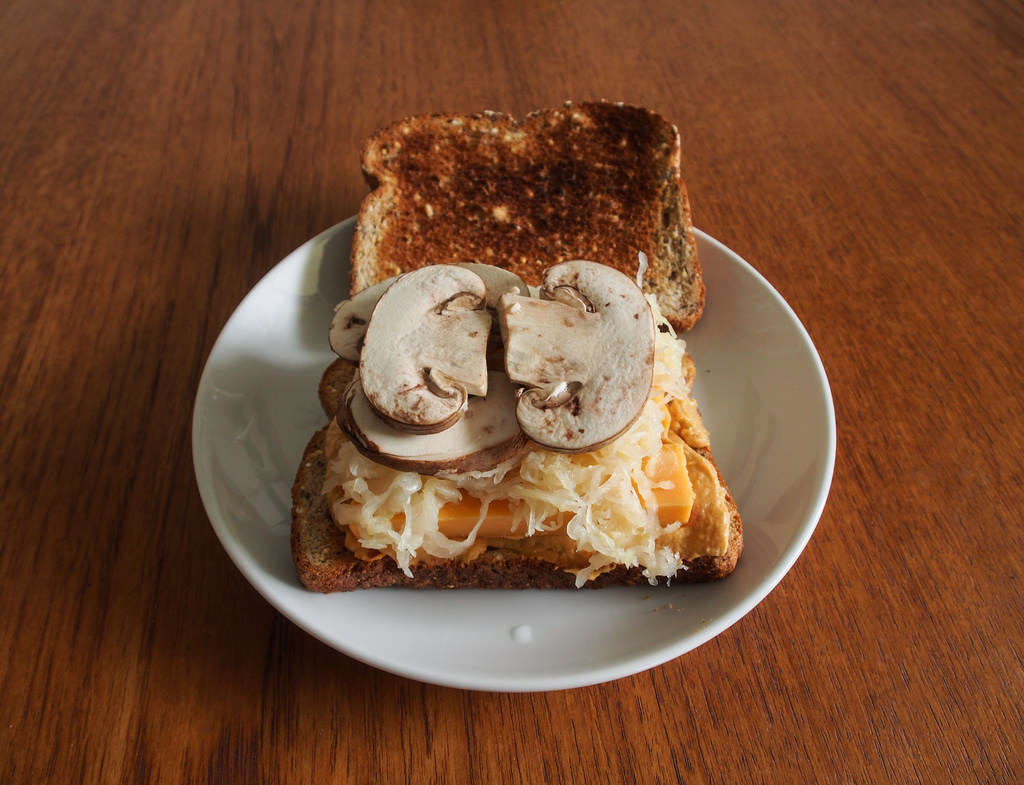slice of bread: (362, 114, 703, 315), (293, 515, 754, 594)
